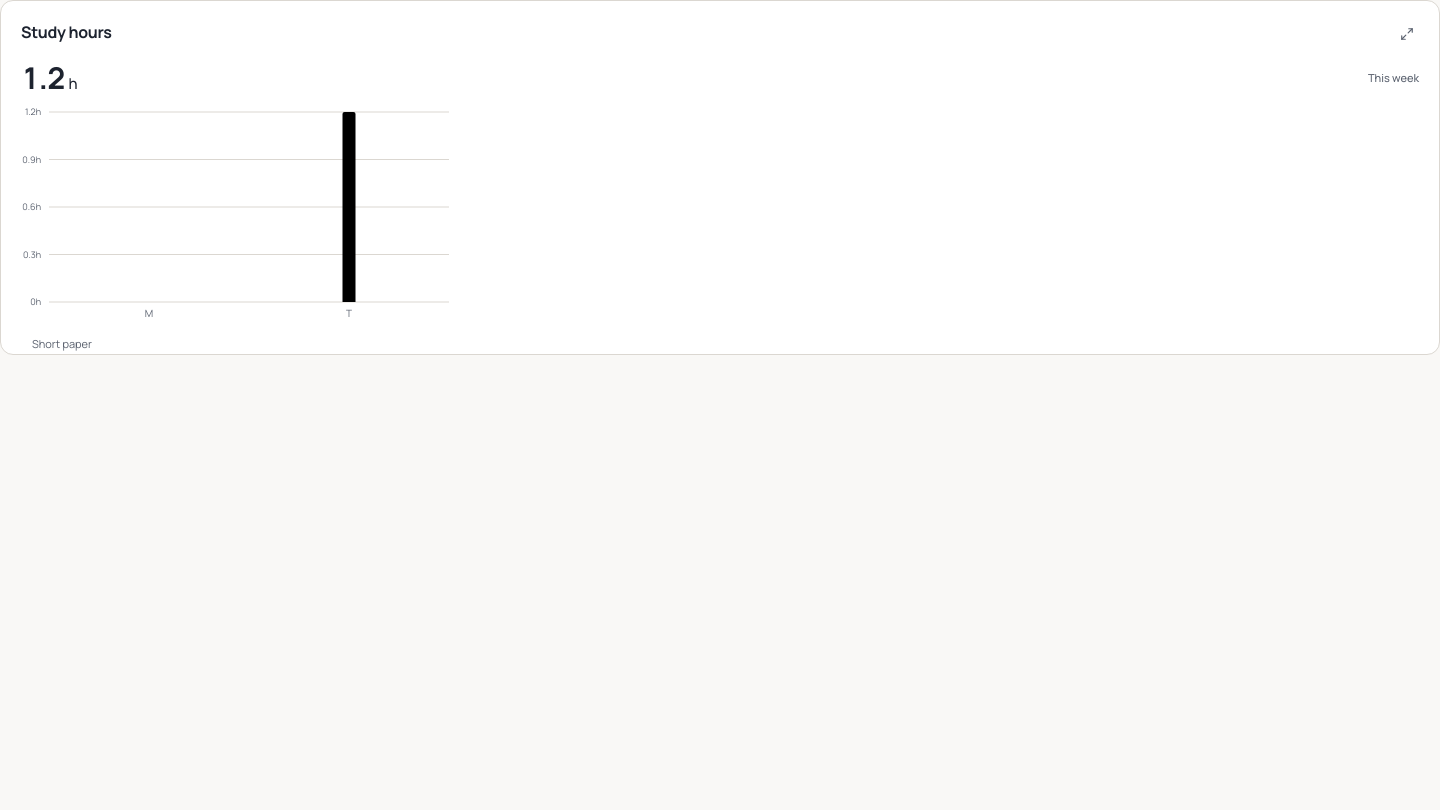
it: groups only selected-profile recorded time and labels unassigned revision separately
This screenshot has width=1440, height=810.
Expected: the text "This week" is shown, top-left (1368, 70), bottom-right (1419, 86)
Expected: the text "Unlinked revision" is not shown
Click the button named "View study hours data": (1407, 34) top-left (1390, 17), bottom-right (1424, 51)
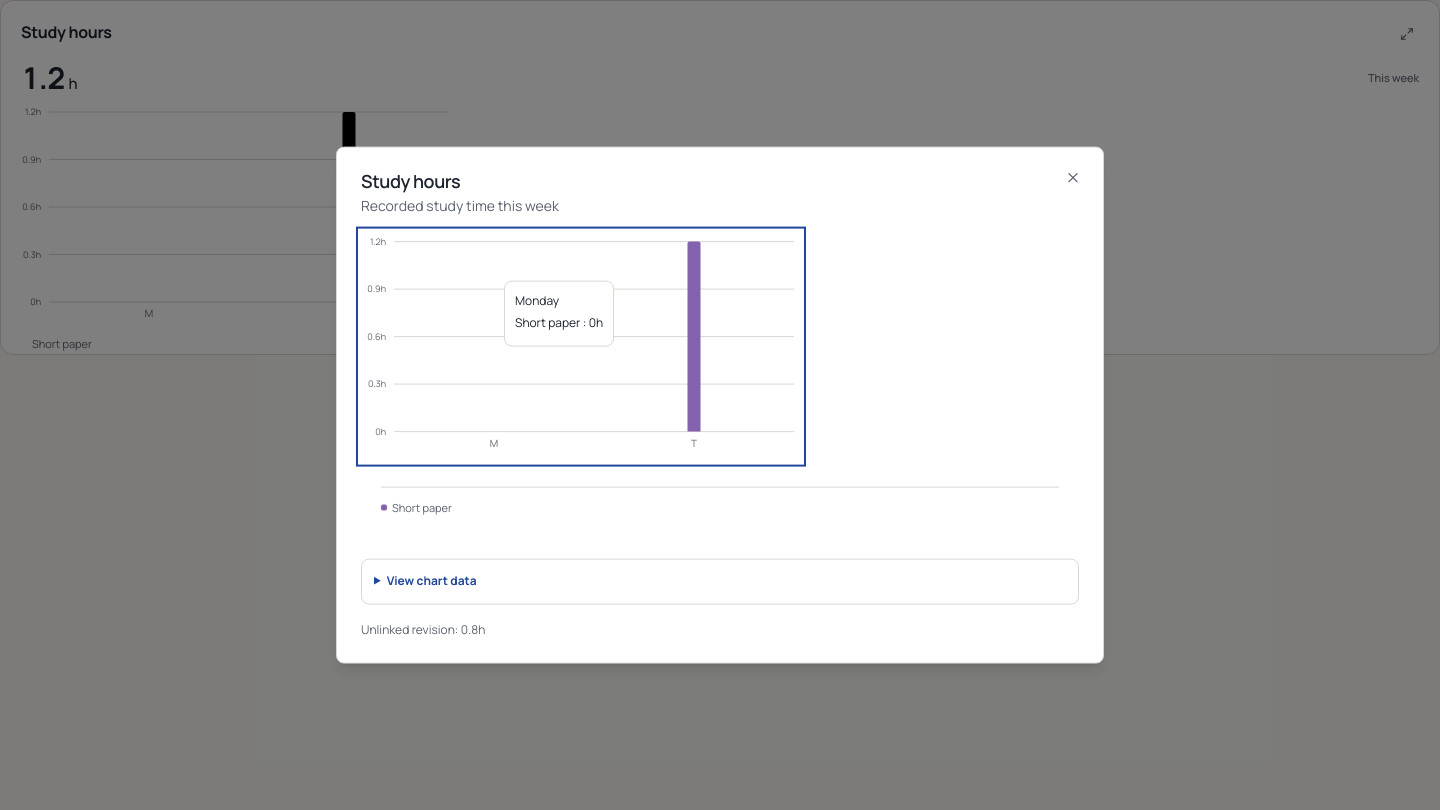
Result: the dialog shows "Unlinked revision: 0.8h" at top-left (336, 147), bottom-right (1104, 663)
